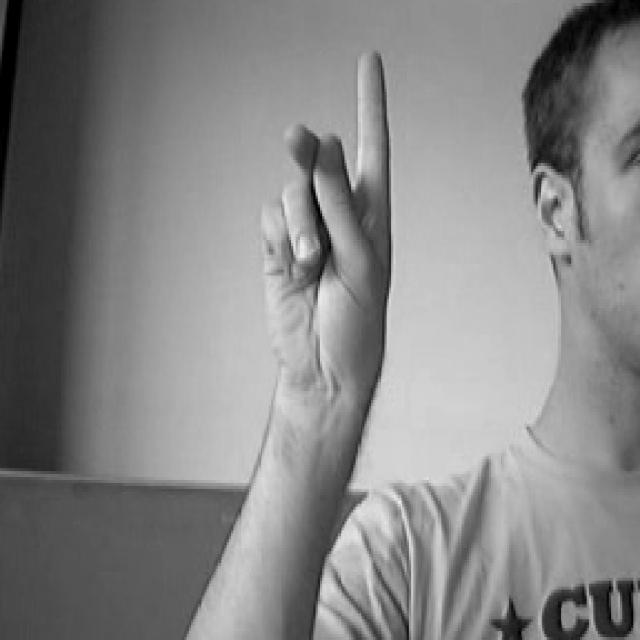K: (236, 33, 418, 411)
